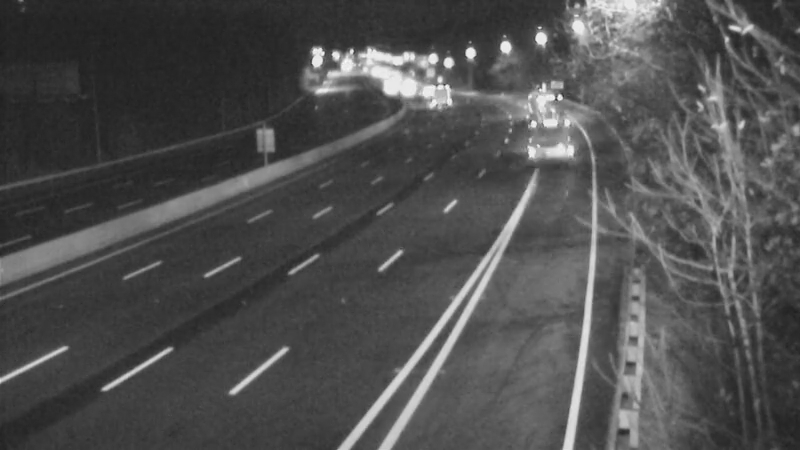vehicle: (399, 65, 449, 115), (519, 78, 569, 128), (417, 67, 467, 117), (528, 102, 578, 152)
